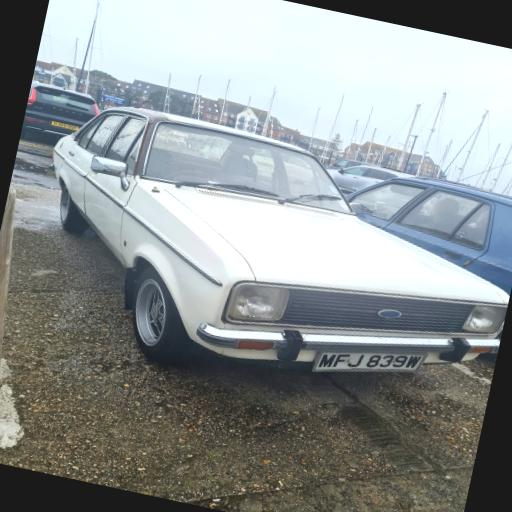numberplates: (313, 351, 426, 371), (51, 121, 78, 130)
